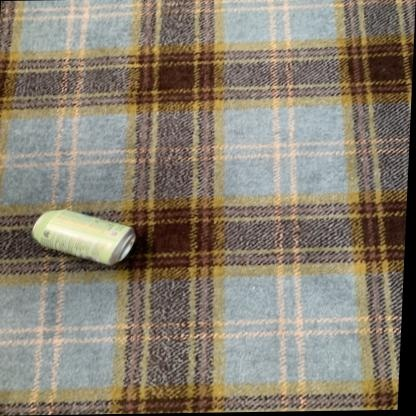trash: (32, 210, 135, 264)
